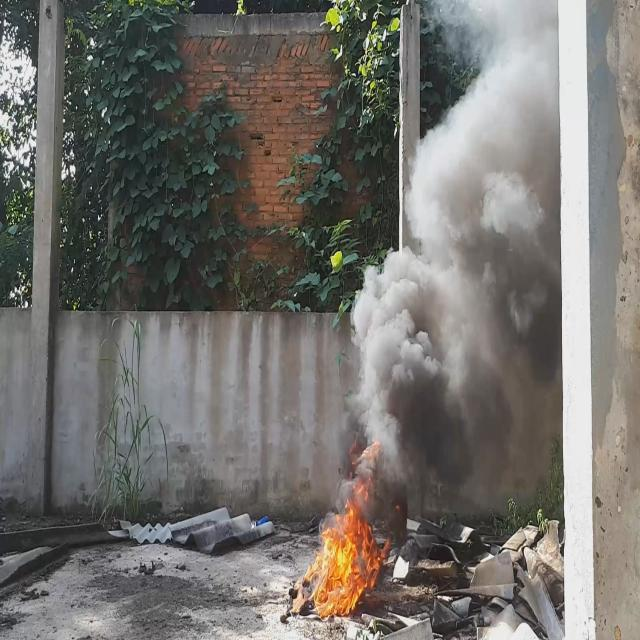Fire: (314, 439, 384, 619)
Smoke: (352, 0, 560, 504)
